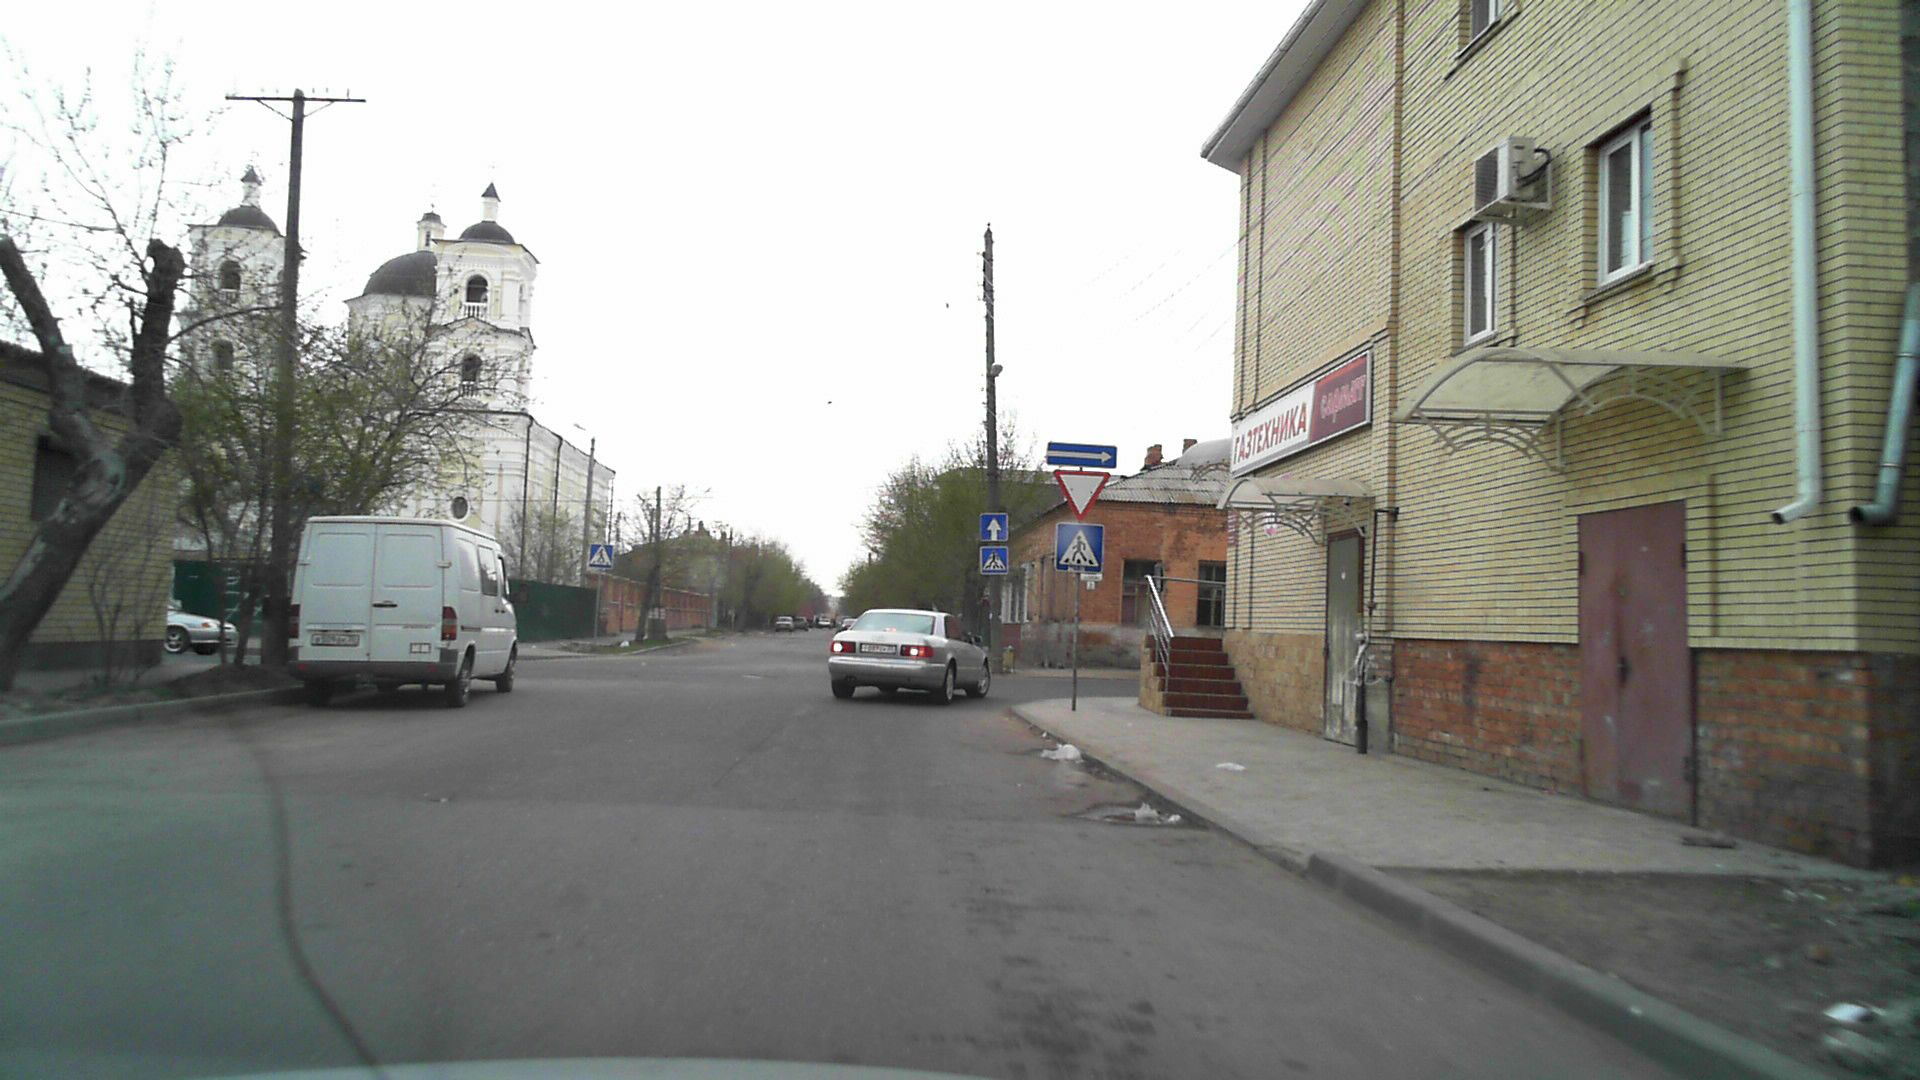One-Way Traffic: (1046, 442, 1117, 468)
Pedestrian Crossing: (1058, 524, 1104, 572)
